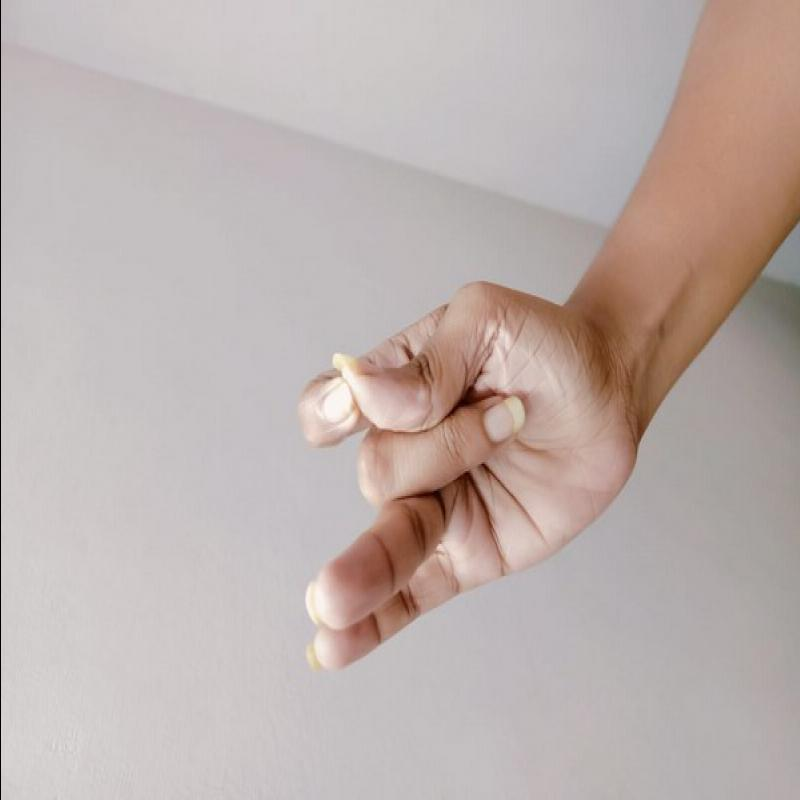Katakam: (251, 266, 655, 697)
